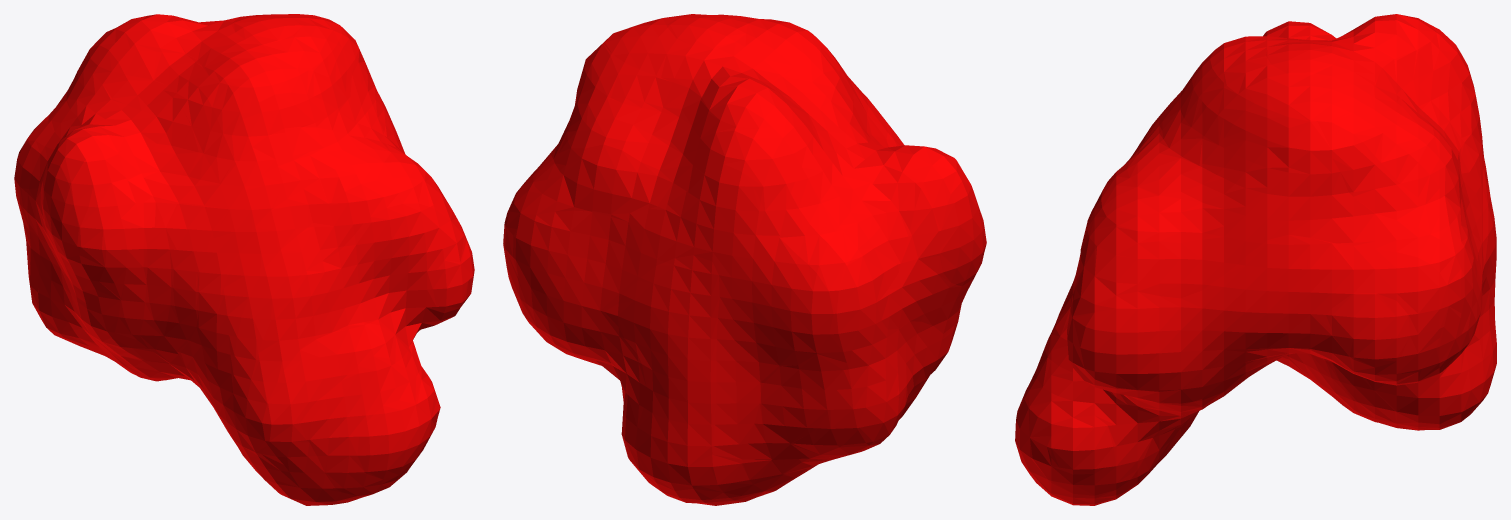
The model's file is mutT_coarse.dae.
3 views of the same model, side by side, from view 1: azimuth 30°, elevation 25°; view 2: azimuth 150°, elevation 25°; view 3: azimuth 270°, elevation 25° (orthographic). The views are drawn at different scales.
Visible parts, largest first — view 1: mutT; view 2: mutT; view 3: mutT.
Part boxes in pixels (x1,y1,x2,y2): mutT: (14, 14, 474, 505); mutT: (503, 14, 986, 505); mutT: (1015, 14, 1496, 505).
Bounding box in the file's own units: 38.42 × 42.09 × 39.93.
